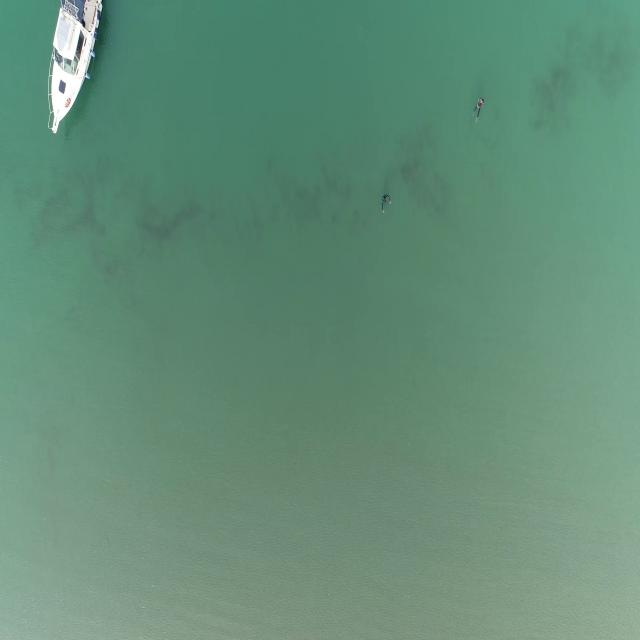boat: (42, 1, 102, 138)
person: (473, 99, 485, 128), (378, 195, 392, 218)
